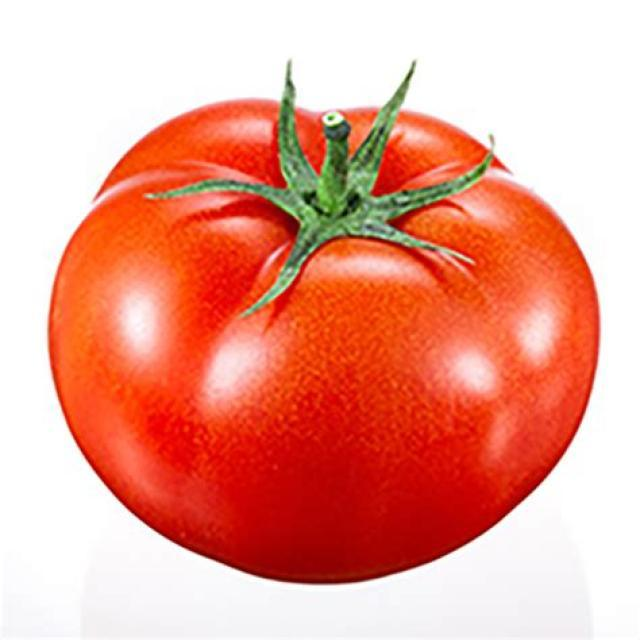Tomato: (47, 66, 603, 588)
